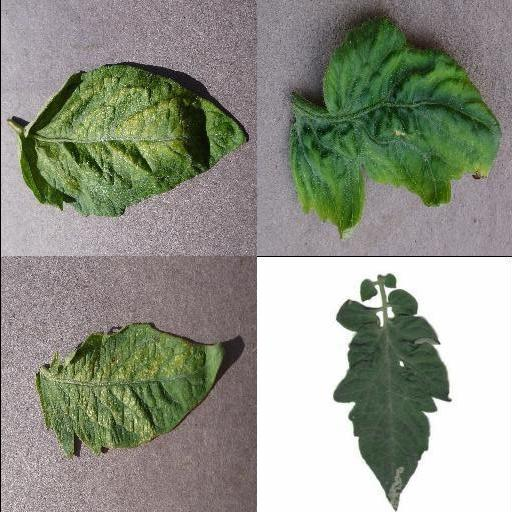Leaf Miner: (328, 313, 450, 512)
Spider Mites: (19, 64, 247, 220), (37, 323, 225, 460)
Yellow Leaf Curl Virus: (285, 14, 503, 240)
